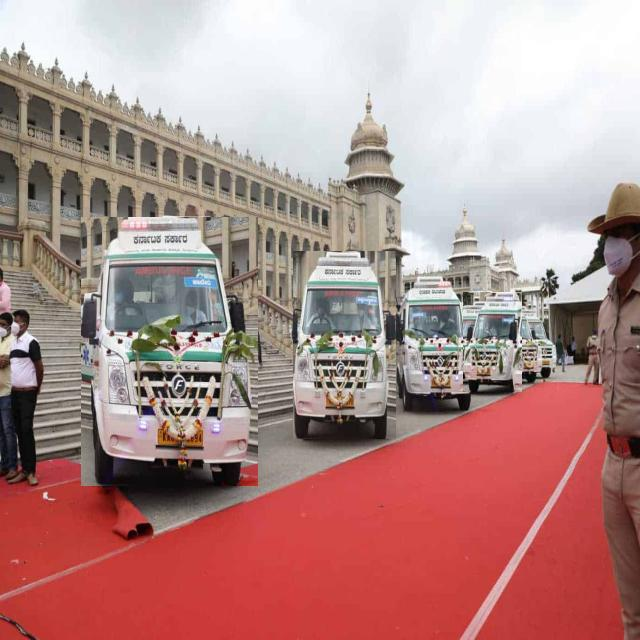emergency: (81, 217, 258, 486), (293, 251, 395, 439), (391, 278, 471, 411), (463, 293, 521, 392)
